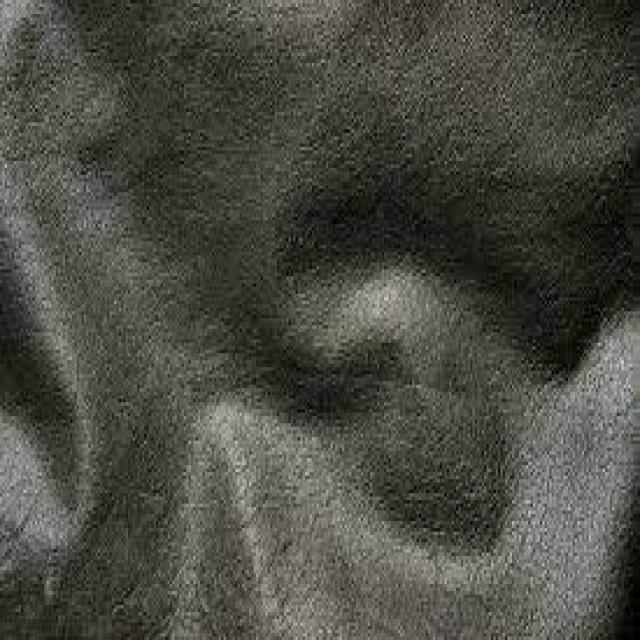Crease: (136, 383, 408, 563), (26, 29, 147, 311), (274, 247, 500, 396)
